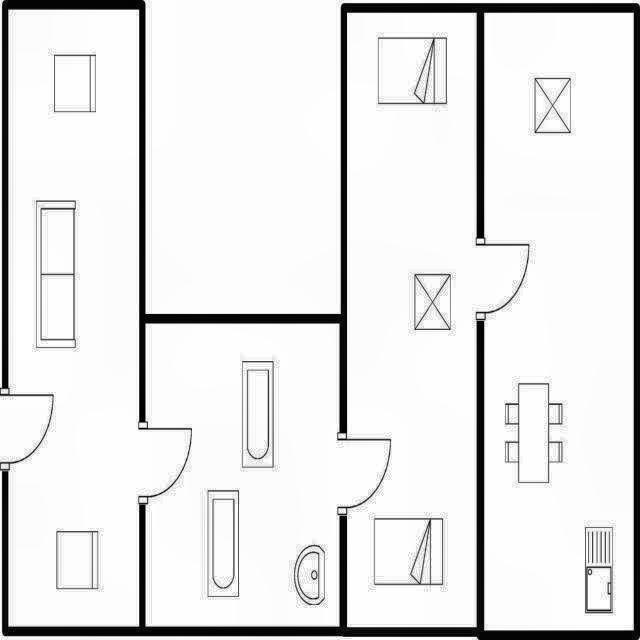room: (484, 13, 634, 631), (8, 10, 139, 627), (347, 13, 477, 627), (145, 323, 339, 627)
